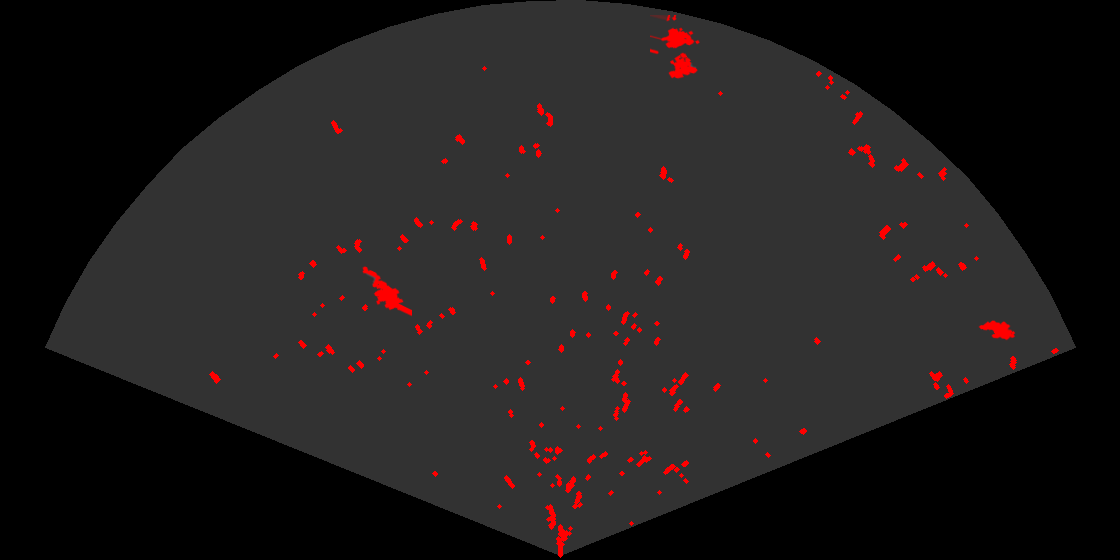AUV: (977, 319, 1017, 342)
cage: (650, 15, 701, 80)
frogman: (361, 265, 412, 318)
